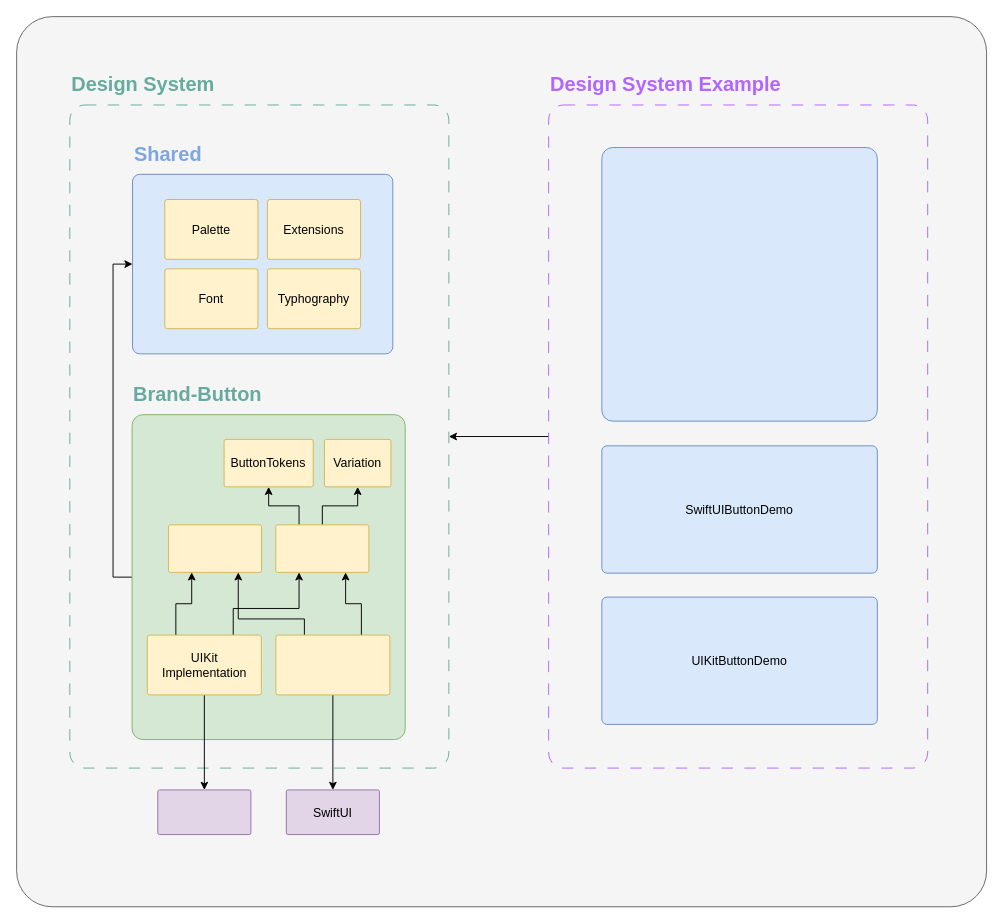
Image size: 1003x923. Some labels were removed from this diagram. The box of each missing label's shape, as (x1, y1, x2, y2) in pixels:
ButtonImage: (167, 524, 262, 572)
ButtonStyle: (275, 524, 369, 572)
DesignSystemExampleApp: (601, 147, 877, 421)
SwiftUI Implementation: (275, 634, 390, 695)
UIKit: (157, 789, 251, 835)
